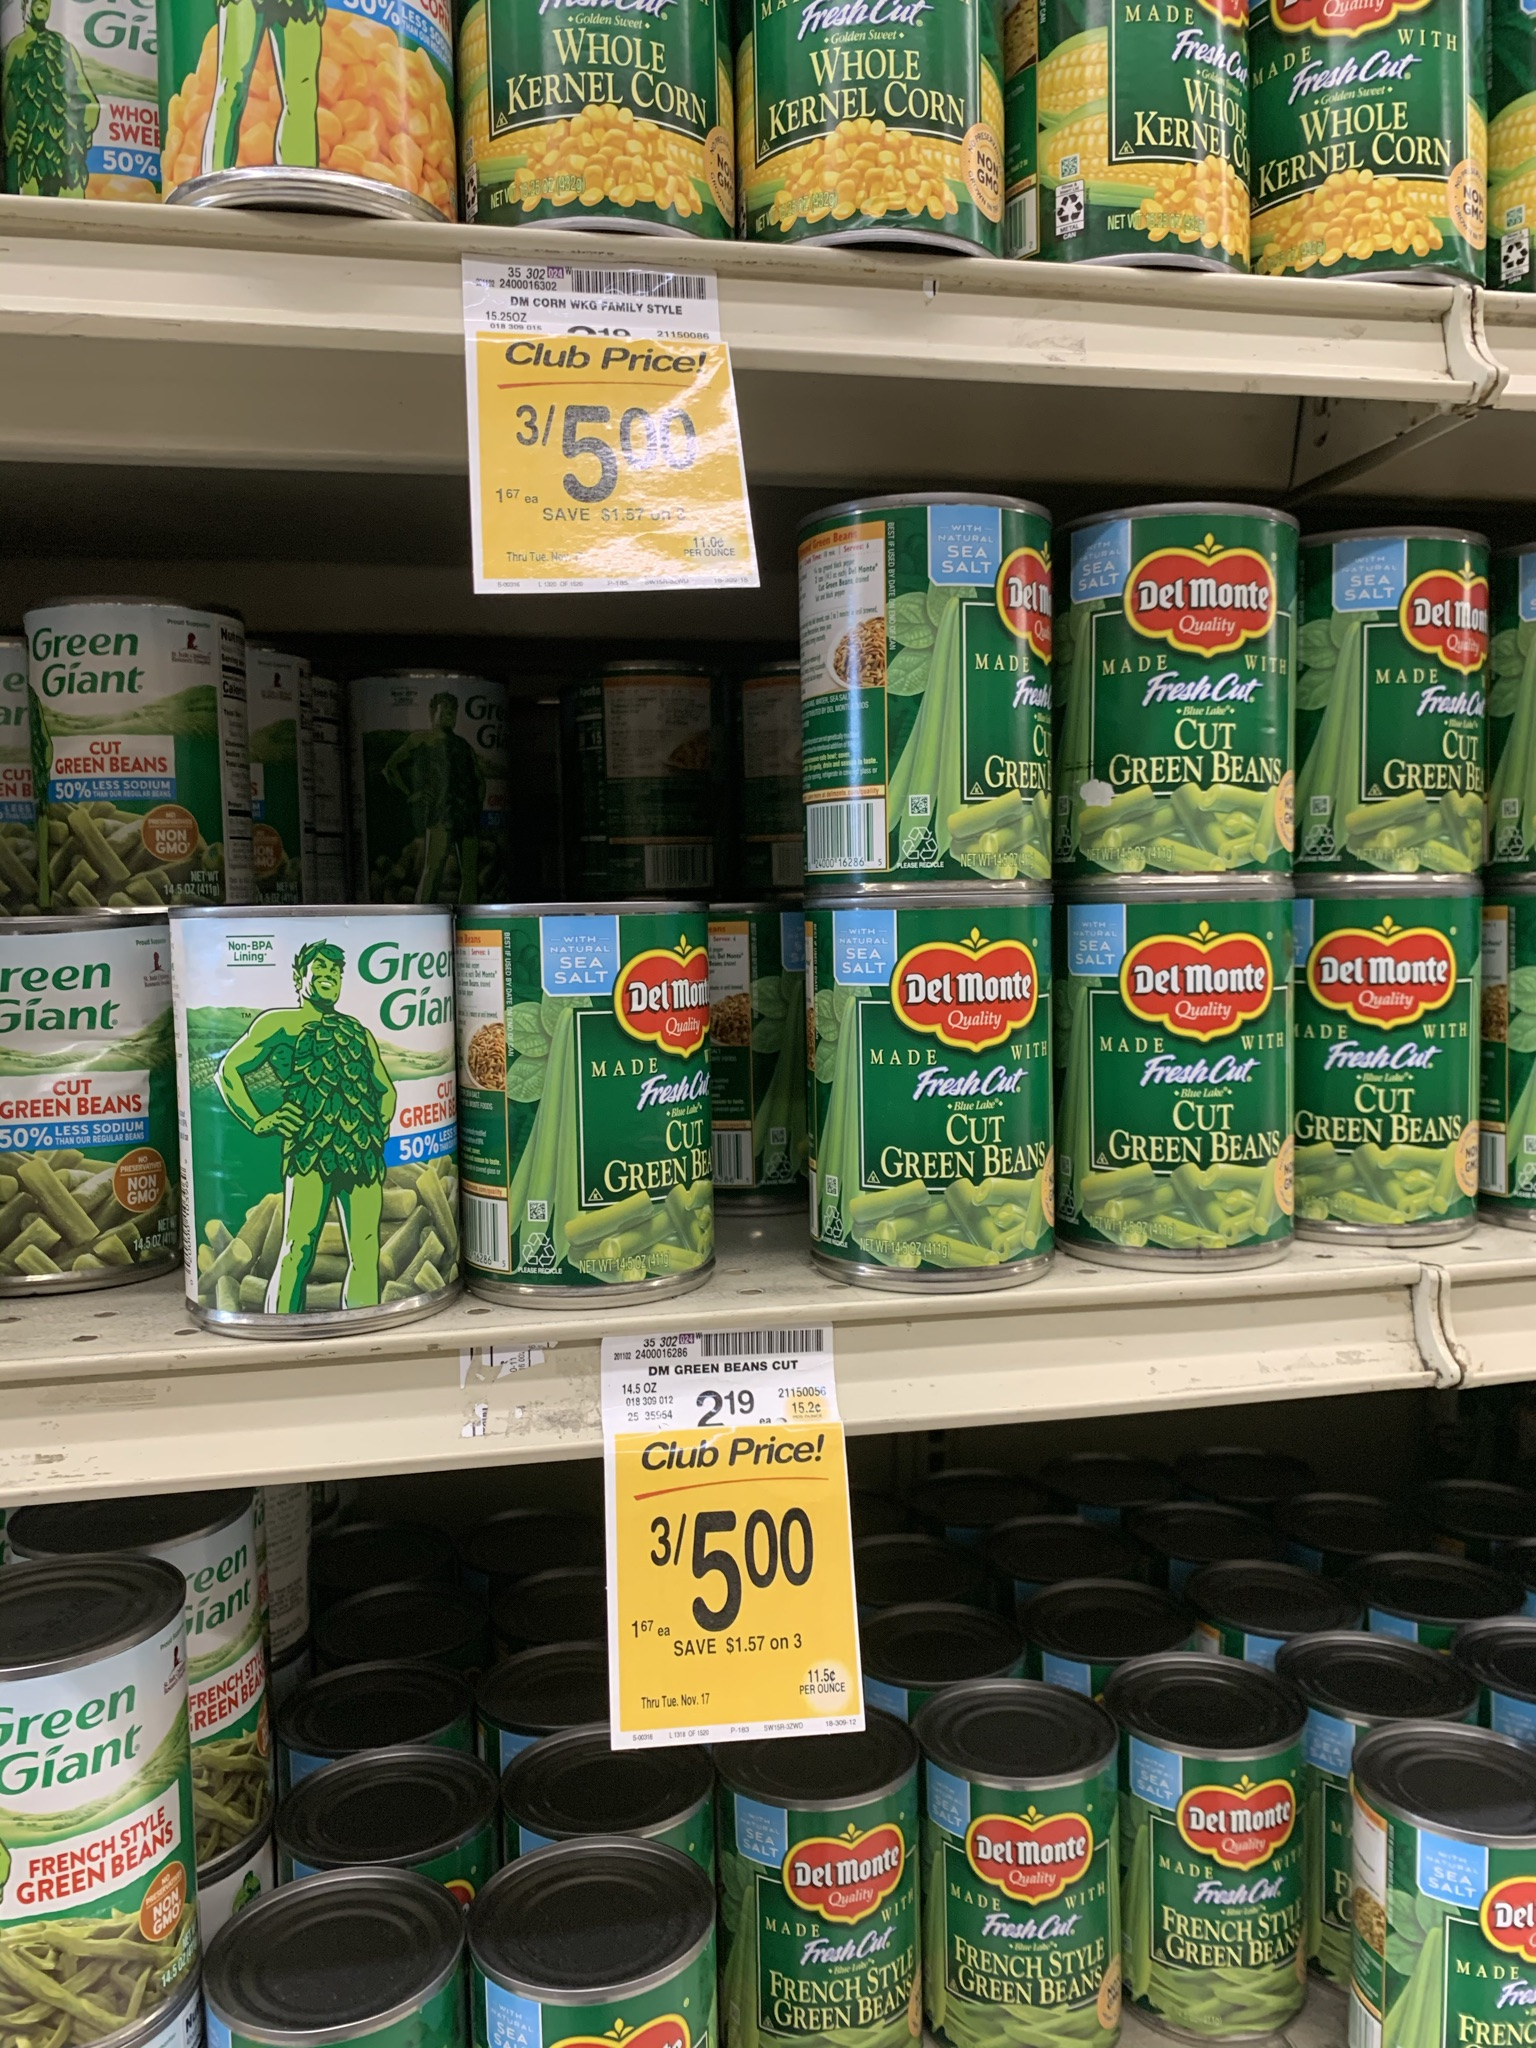can: (205, 921, 458, 1300), (818, 526, 1052, 880), (486, 914, 703, 1279), (836, 913, 1046, 1272), (1078, 531, 1297, 871), (1079, 910, 1284, 1251), (1016, 10, 1250, 274), (1267, 10, 1473, 281), (1317, 900, 1480, 1235), (39, 614, 227, 900), (474, 13, 715, 231), (757, 21, 975, 255), (1321, 548, 1484, 855), (960, 1753, 1108, 2048), (1155, 1725, 1292, 2021), (352, 681, 508, 900), (591, 684, 731, 889)
